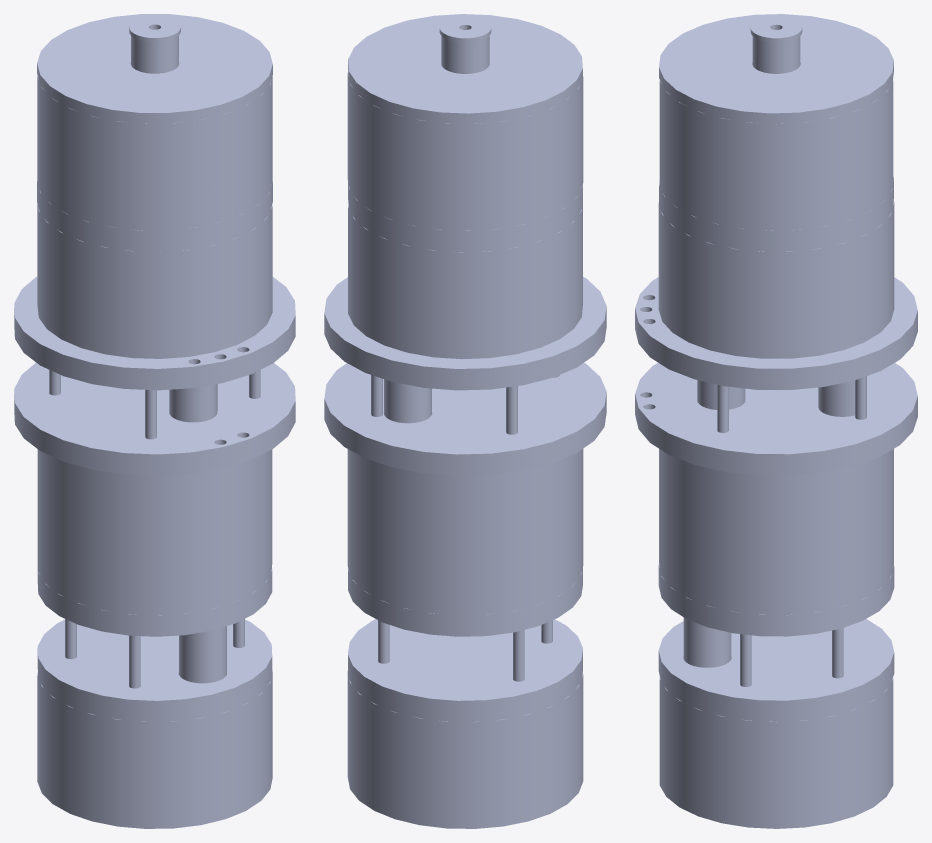
Rendered from ContDistillerAssembly.glb.
3 views of the same model, side by side, from view 1: azimuth 30°, elevation 25°; view 2: azimuth 150°, elevation 25°; view 3: azimuth 270°, elevation 25° (orthographic).
Parts seen in each view (by area): view 1: Reusable Pipe - Evap, Reusable Pipe - Cond_melter, Reusable Pipe - Cond.001, Reusable Pipe - Cond, Evap-top plate, melter_plate, Accumulator-top plate, Cond - bottom plate, Cond-top plate, Evap-bottom plate, Accumulator tube, Conduit pipe (+2 smaller); view 2: Reusable Pipe - Evap, Reusable Pipe - Cond_melter, Reusable Pipe - Cond.001, Reusable Pipe - Cond, Evap-top plate, Accumulator-top plate, melter_plate, Cond - bottom plate, Cond-top plate, Evap-bottom plate, Melter_evaportor_pipe, Conduit pipe- cond top (+1 smaller); view 3: Reusable Pipe - Evap, Reusable Pipe - Cond, Reusable Pipe - Cond_melter, Reusable Pipe - Cond.001, Evap-top plate, melter_plate, Accumulator-top plate, Cond - bottom plate, Evap-bottom plate, Cond-top plate, Accumulator tube, Conduit pipe- cond top (+3 smaller).
Part boxes in pixels (x1,y1,x2,y2): Reusable Pipe - Evap: [37, 449, 272, 615]; Reusable Pipe - Cond_melter: [37, 75, 272, 230]; Reusable Pipe - Cond.001: [37, 670, 272, 828]; Reusable Pipe - Cond: [37, 204, 272, 358]; Evap-top plate: [14, 362, 295, 475]; melter_plate: [37, 14, 272, 123]; Accumulator-top plate: [37, 619, 272, 722]; Cond - bottom plate: [14, 276, 295, 390]; Cond-top plate: [37, 180, 272, 251]; Evap-bottom plate: [37, 568, 272, 636]; Accumulator tube: [179, 626, 226, 683]; Conduit pipe: [169, 384, 217, 422]; Reusable Pipe - Evap: [347, 449, 583, 615]; Reusable Pipe - Cond_melter: [347, 71, 583, 230]; Reusable Pipe - Cond.001: [347, 670, 583, 828]; Reusable Pipe - Cond: [348, 204, 582, 359]; Evap-top plate: [324, 363, 606, 475]; Accumulator-top plate: [348, 619, 582, 722]; melter_plate: [348, 14, 582, 124]; Cond - bottom plate: [324, 277, 606, 390]; Cond-top plate: [348, 181, 582, 252]; Evap-bottom plate: [348, 567, 582, 636]; Melter_evaportor_pipe: [384, 379, 431, 423]; Conduit pipe- cond top: [441, 29, 489, 73]; Reusable Pipe - Evap: [659, 449, 893, 615]; Reusable Pipe - Cond: [658, 201, 894, 358]; Reusable Pipe - Cond_melter: [659, 78, 893, 230]; Reusable Pipe - Cond.001: [659, 676, 893, 828]; Evap-top plate: [635, 362, 917, 475]; melter_plate: [659, 14, 893, 123]; Accumulator-top plate: [658, 619, 894, 721]; Cond - bottom plate: [635, 277, 917, 389]; Evap-bottom plate: [658, 564, 894, 636]; Cond-top plate: [659, 176, 893, 252]; Accumulator tube: [683, 617, 731, 667]; Conduit pipe- cond top: [752, 29, 800, 73].
Bounding box in the file's own units: 0.3032 × 0.8941 × 0.3047.
